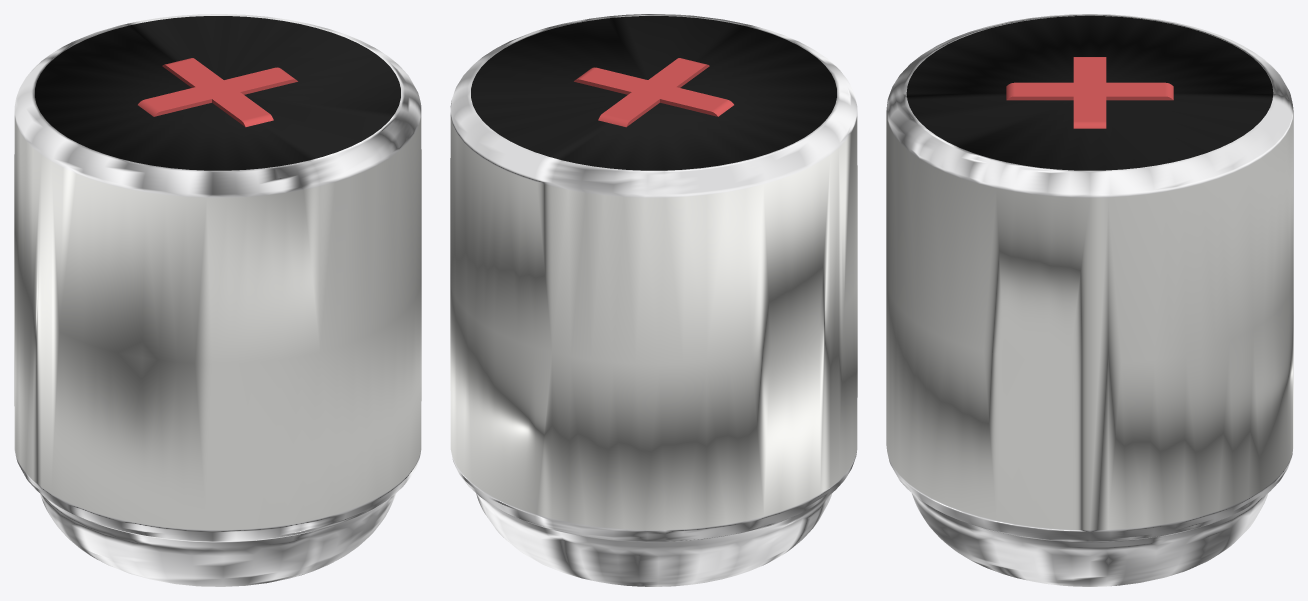
File: Carga de vida mola unitario v5.fbx
3 views of the same model, side by side, from view 1: azimuth 30°, elevation 25°; view 2: azimuth 150°, elevation 25°; view 3: azimuth 270°, elevation 25° (orthographic).
Parts seen in each view (by area): view 1: Body10, Body8; view 2: Body10, Body8; view 3: Body10, Body8.
Part boxes in pixels (box(x1,y1,x2,y2)): Body10: box(14, 14, 421, 586); Body8: box(138, 58, 297, 127); Body10: box(450, 14, 857, 586); Body8: box(574, 58, 733, 127); Body10: box(886, 14, 1293, 586); Body8: box(1006, 57, 1173, 128).
Bounding box in the file's own units: 100 × 121 × 100.
